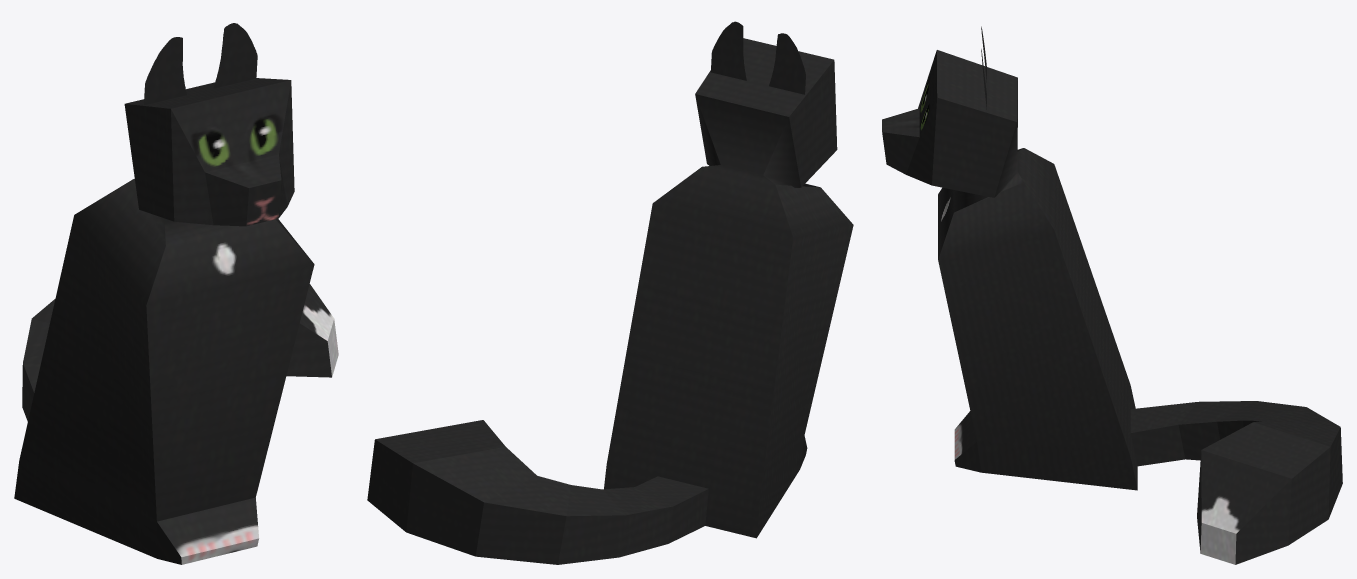
File: Cat.fbx
The picture shows the model from 3 angles, left to right: view 1: azimuth 30°, elevation 25°; view 2: azimuth 150°, elevation 25°; view 3: azimuth 270°, elevation 25°; orthographic projection. The views are drawn at different scales.
Visible parts, largest first — view 1: Plane001; view 2: Plane001; view 3: Plane001.
Part boxes in pixels (<box>): Plane001: <box>14,23,338,564</box>; Plane001: <box>367,21,853,564</box>; Plane001: <box>882,26,1342,564</box>.
Bounding box in the file's own units: 148 × 190 × 190.
